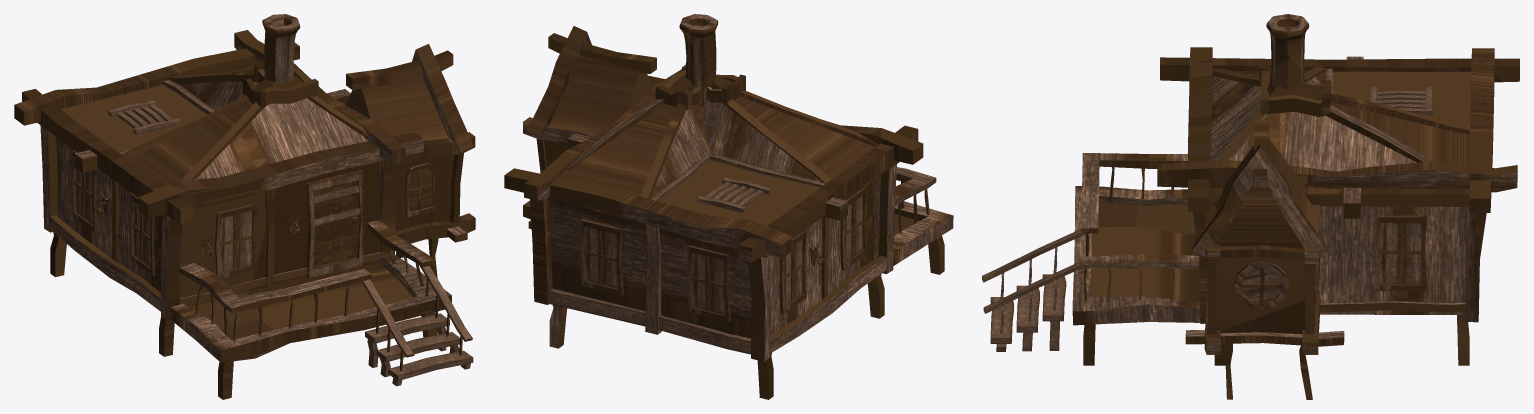
The model's file is House-3.fbx.
3 views of the same model, side by side, from view 1: azimuth 30°, elevation 25°; view 2: azimuth 150°, elevation 25°; view 3: azimuth 270°, elevation 25° (orthographic). The views are drawn at different scales.
Visible parts, largest first — view 1: EV.004; view 2: EV.004; view 3: EV.004.
Part boxes in pixels (<box>): EV.004: <box>14,14,475,399</box>; EV.004: <box>504,14,953,399</box>; EV.004: <box>982,14,1519,399</box>.
Bounding box in the file's own units: 318 × 250 × 395.
